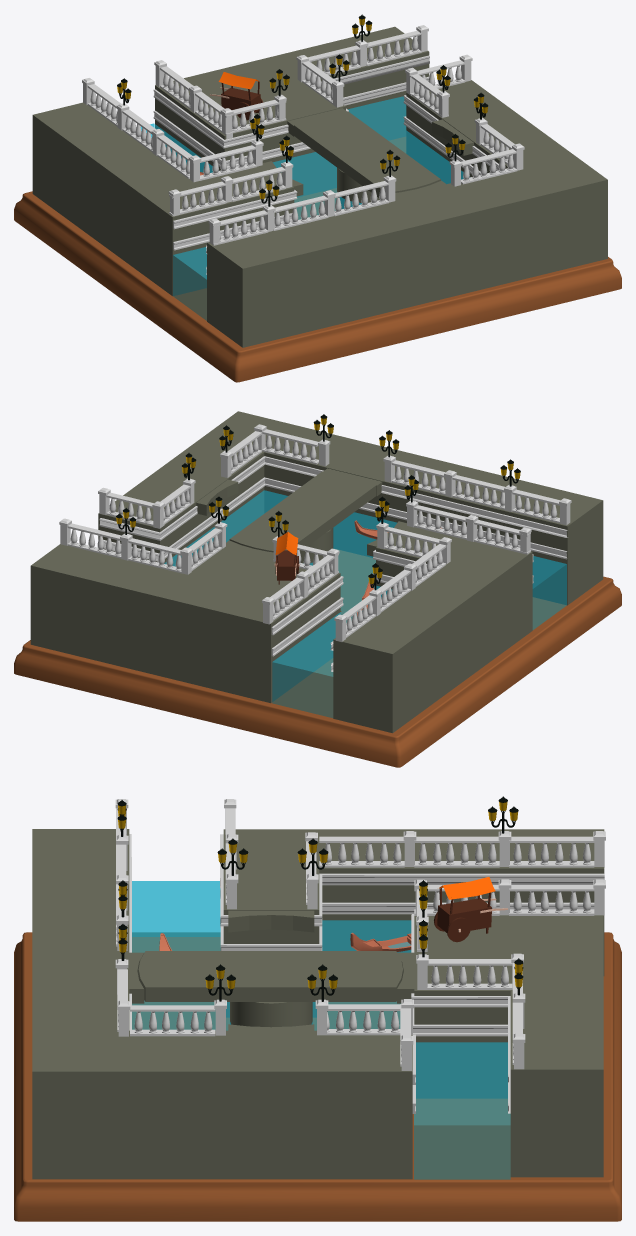
File: Level3_4.FBX
3 views of the same model, one above another, from view 1: azimuth 30°, elevation 25°; view 2: azimuth 150°, elevation 25°; view 3: azimuth 270°, elevation 25° (orthographic). The views are drawn at different scales.
Parts seen in each view (by area): view 1: Container001, Box070, Box071, Box069, Cylinder060, Box047, Cylinder061, Cylinder064; view 2: Container001, Box069, Box070, Box071, Cylinder060, Cylinder061, Box047, Cylinder064; view 3: Container001, Box070, Box069, Box071, Cylinder060, Cylinder064, Cylinder059, Box047, Plane008, Box048, Cylinder062, Cylinder063.
Boxes of the visible parts, x1,y1,x2,y2 form: Container001: (14, 25, 621, 382); Box070: (207, 80, 607, 347); Box071: (32, 102, 294, 296); Box069: (155, 26, 429, 197); Cylinder060: (294, 111, 440, 197); Box047: (221, 88, 260, 112); Cylinder061: (432, 119, 473, 155); Cylinder064: (337, 167, 379, 208); Container001: (14, 424, 621, 767); Box069: (30, 544, 340, 703); Box070: (98, 411, 603, 605); Box071: (333, 525, 532, 733); Cylinder060: (229, 471, 376, 552); Cylinder061: (196, 479, 238, 515); Box047: (277, 550, 296, 580); Cylinder064: (300, 528, 333, 565); Container001: (14, 799, 621, 1221); Box070: (32, 829, 412, 1179); Box069: (414, 915, 603, 1177); Box071: (223, 829, 604, 1017); Cylinder060: (138, 951, 402, 1001); Cylinder064: (230, 1002, 312, 1027); Cylinder059: (228, 910, 314, 932); Box047: (437, 898, 491, 932); Plane008: (350, 932, 411, 952); Box048: (439, 877, 495, 899); Cylinder062: (397, 952, 414, 1003); Cylinder063: (129, 952, 144, 1003).
Bounding box in the file's own units: 336 × 130 × 336.
